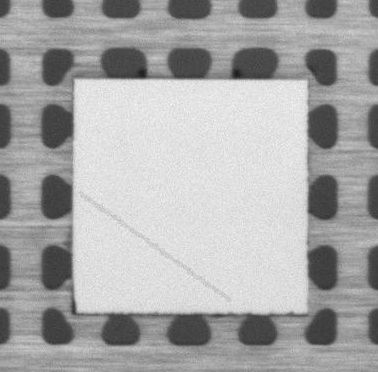DIE_CRACK: (81, 190, 233, 294)
